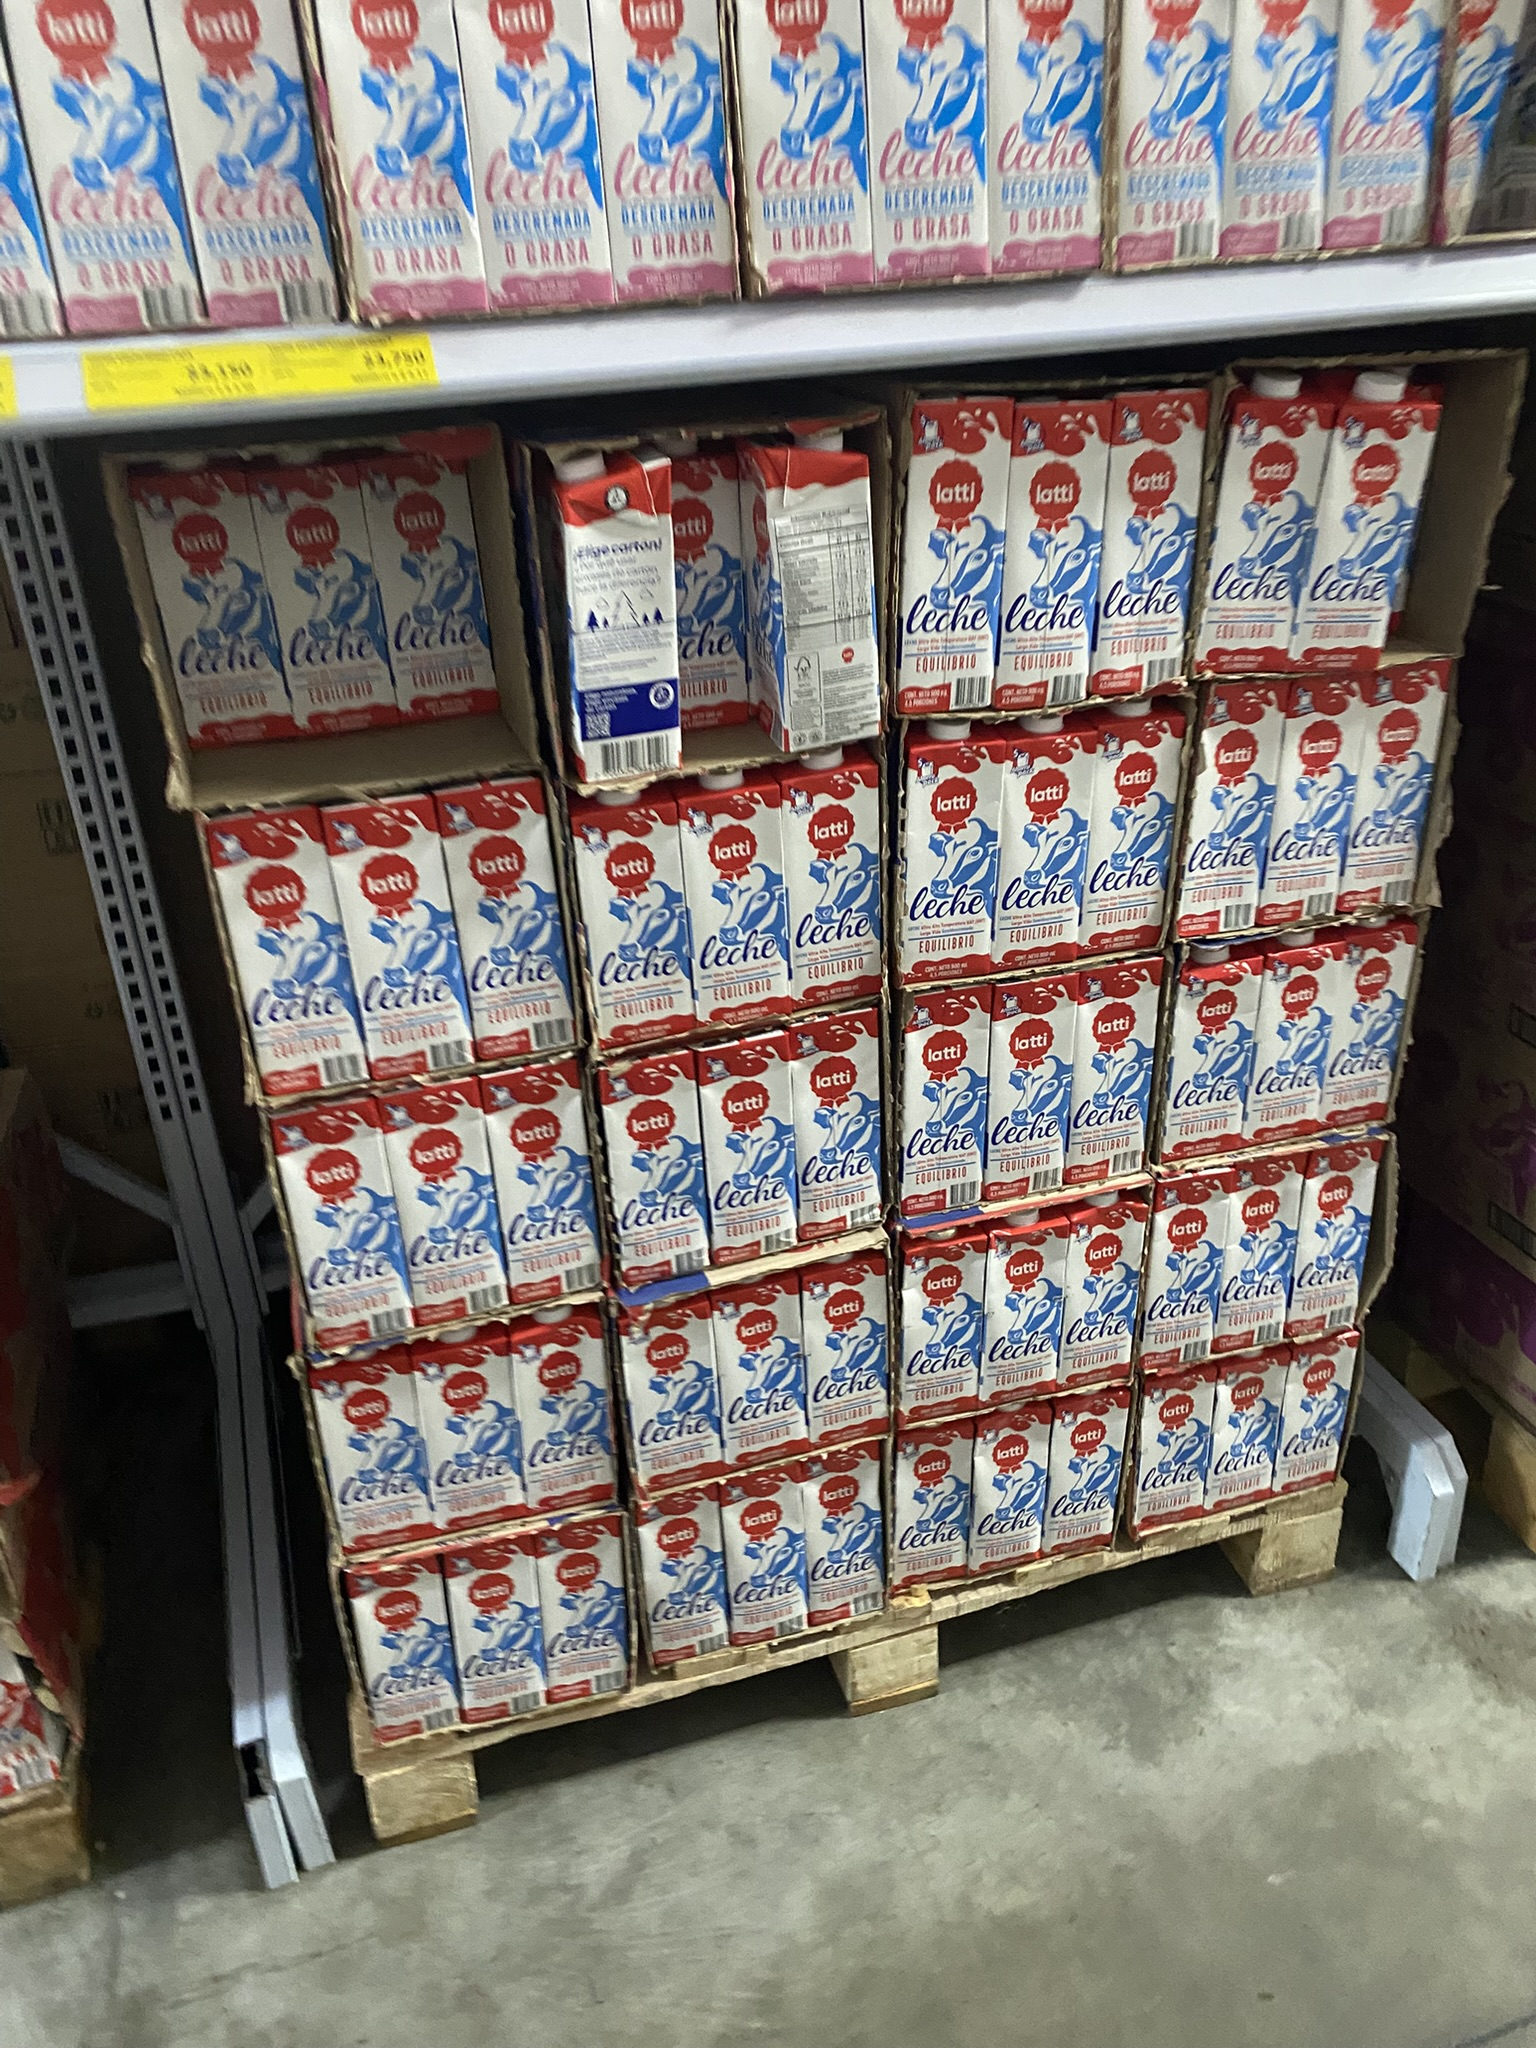Leche: (108, 442, 286, 755), (892, 371, 1036, 724), (752, 413, 891, 758), (329, 790, 487, 1071), (1208, 345, 1338, 684), (1325, 355, 1462, 668), (1004, 368, 1126, 705), (1092, 366, 1213, 701), (203, 790, 331, 1108), (437, 776, 578, 1043), (269, 1101, 429, 1330), (578, 434, 670, 795), (379, 1084, 515, 1314), (479, 1064, 610, 1295), (278, 432, 376, 734), (387, 419, 482, 731), (574, 782, 694, 1027), (694, 1022, 816, 1256), (676, 766, 792, 1001), (337, 1540, 470, 1730), (771, 747, 879, 977), (440, 1513, 557, 1727), (495, 1309, 623, 1503), (411, 1324, 536, 1521), (599, 1051, 713, 1264), (300, 1347, 437, 1524), (781, 997, 884, 1224), (999, 693, 1086, 956), (1086, 689, 1173, 939), (1350, 639, 1428, 911), (795, 1245, 904, 1434), (713, 1264, 824, 1447), (607, 1285, 721, 1458), (1192, 668, 1270, 922), (670, 427, 729, 745), (912, 721, 987, 969), (1247, 924, 1341, 1124), (787, 1443, 891, 1624), (900, 984, 983, 1206), (639, 1495, 744, 1664), (1276, 663, 1344, 924), (1078, 956, 1152, 1187), (1002, 968, 1078, 1187), (536, 1517, 628, 1695), (981, 1211, 1068, 1392), (892, 1216, 978, 1398), (721, 1487, 821, 1635), (1131, 1364, 1221, 1526), (1171, 943, 1246, 1138), (1336, 914, 1407, 1113), (1060, 1190, 1134, 1377), (1139, 1161, 1213, 1347), (978, 1388, 1052, 1569), (892, 1430, 978, 1584), (1300, 1129, 1367, 1322), (1060, 1361, 1123, 1555), (1213, 1161, 1284, 1327), (1218, 1348, 1283, 1508), (1284, 1327, 1338, 1479)
